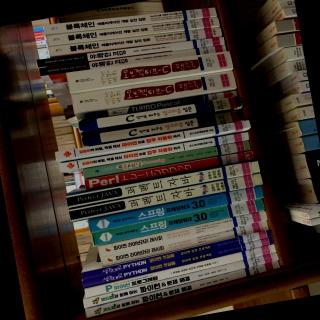book-spine: (84, 258, 279, 318), (82, 251, 278, 307), (84, 242, 275, 297), (82, 235, 273, 288), (69, 170, 263, 222), (81, 228, 272, 279), (65, 159, 261, 207), (54, 118, 251, 161), (88, 184, 263, 232), (97, 208, 267, 256), (91, 197, 264, 244), (58, 130, 249, 171), (100, 220, 269, 265), (65, 47, 233, 92), (71, 68, 236, 113), (84, 150, 254, 189), (83, 139, 250, 178), (81, 107, 244, 146), (36, 35, 225, 67), (38, 43, 226, 75), (77, 95, 243, 131), (48, 24, 222, 56), (45, 15, 219, 45), (43, 6, 217, 34), (108, 89, 237, 115)
